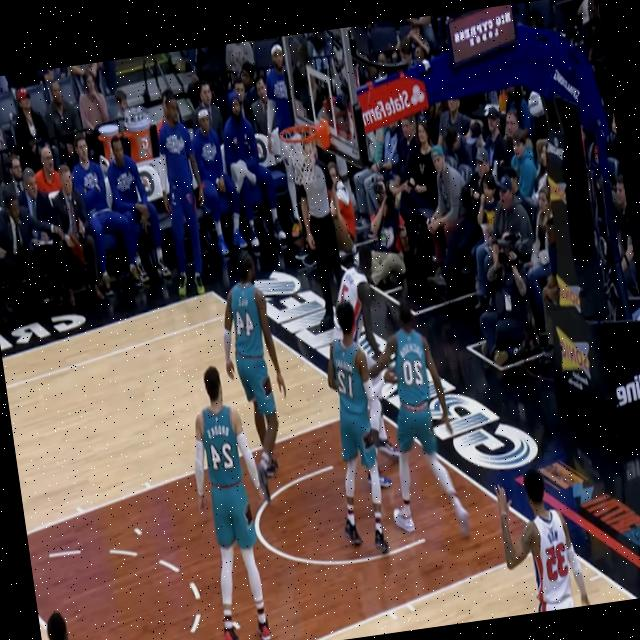no foul: (359, 284, 464, 547), (319, 295, 408, 568)
